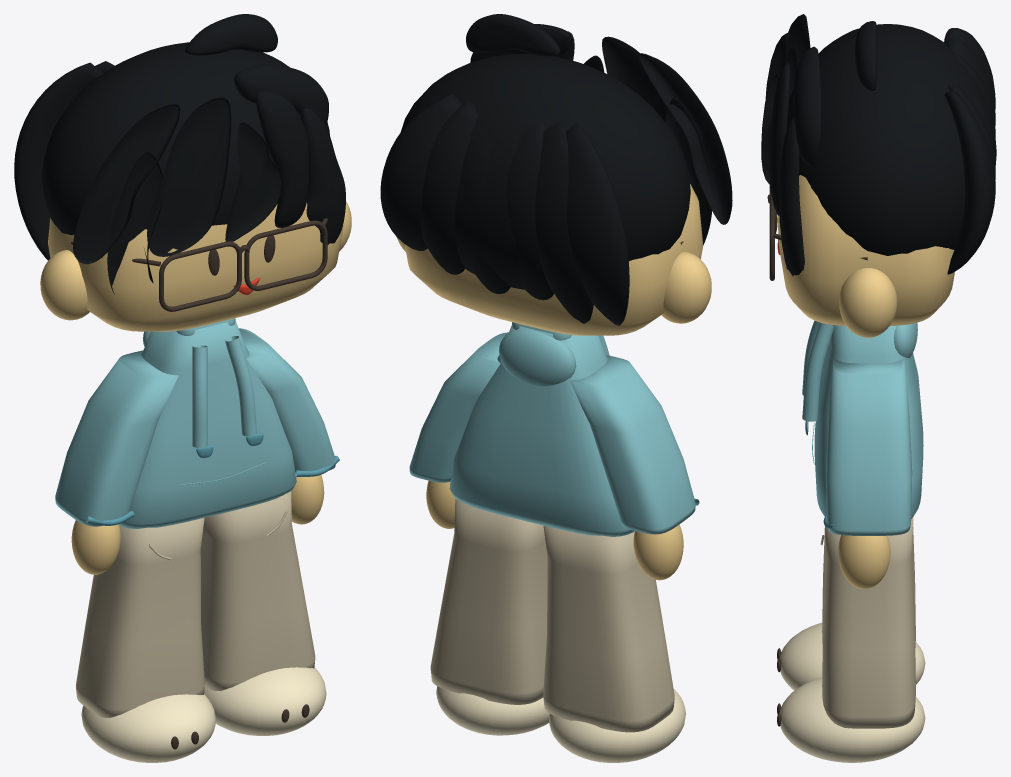
Rendered from clay-portrait.glb.
3 renders of one model, left to right at view 1: azimuth 30°, elevation 25°; view 2: azimuth 150°, elevation 25°; view 3: azimuth 270°, elevation 25°, orthographic.
Parts seen in each view (by area): view 1: Hand shaped blue sweatshirt, Wide cloth trouser leg, Black hair under shell, Wide cloth trouser leg.001, Soft oval face, Long sloped sleeve, Left broad fringe, Rounded ivory shoe, Left outer swept slab, Rounded ivory shoe.001, Back overlapping slab 00, Long sloped sleeve.001 (+13 smaller); view 2: Black hair under shell, Wide cloth trouser leg, Hand shaped blue sweatshirt, Wide cloth trouser leg.001, Long sloped sleeve, Soft oval face, Back overlapping slab 00, Back overlapping slab 01, Back overlapping slab 05, Long sloped sleeve.001, Back overlapping slab 04, Left outer swept slab (+12 smaller); view 3: Black hair under shell, Wide cloth trouser leg.001, Long sloped sleeve.001, Soft oval face, Rounded ivory shoe.001, Hand shaped blue sweatshirt, Back overlapping slab 05, Large low ear.001, Right temple slab, Upper right sweep, Rounded ivory shoe, Small mitten hand.001 (+13 smaller).
Part boxes in pixels (x1,y1,x2,y2): Hand shaped blue sweatshirt: [118, 321, 296, 528]; Wide cloth trouser leg: [76, 518, 204, 717]; Black hair under shell: [41, 42, 329, 235]; Wide cloth trouser leg.001: [200, 491, 315, 690]; Soft oval face: [48, 202, 343, 331]; Long sloped sleeve: [55, 350, 178, 526]; Left broad fringe: [147, 97, 231, 256]; Rounded ivory shoe: [81, 694, 215, 762]; Left outer swept slab: [73, 104, 180, 264]; Rounded ivory shoe.001: [204, 667, 326, 735]; Back overlapping slab 00: [14, 62, 102, 260]; Long sloped sleeve.001: [239, 328, 335, 470]; Black hair under shell: [401, 54, 690, 289]; Wide cloth trouser leg: [543, 525, 674, 732]; Hand shaped blue sweatshirt: [449, 325, 634, 536]; Wide cloth trouser leg.001: [430, 498, 547, 704]; Long sloped sleeve: [570, 355, 695, 534]; Soft oval face: [404, 184, 703, 335]; Back overlapping slab 00: [565, 122, 629, 325]; Back overlapping slab 01: [535, 121, 593, 323]; Back overlapping slab 05: [380, 94, 461, 250]; Long sloped sleeve.001: [409, 332, 508, 482]; Back overlapping slab 04: [420, 101, 478, 274]; Left outer swept slab: [639, 53, 732, 224]; Black hair under shell: [786, 24, 996, 255]; Wide cloth trouser leg.001: [822, 516, 915, 728]; Long sloped sleeve.001: [826, 358, 912, 535]; Soft oval face: [778, 175, 954, 325]; Rounded ivory shoe.001: [779, 677, 925, 762]; Hand shaped blue sweatshirt: [814, 325, 923, 518]; Back overlapping slab 05: [944, 91, 995, 274]; Large low ear.001: [839, 268, 897, 337]; Right temple slab: [779, 118, 804, 275]; Upper right sweep: [793, 46, 821, 166]; Rounded ivory shoe: [780, 622, 925, 690]; Small mitten hand.001: [838, 535, 890, 589].
Bounding box in the file's own units: 1.9 × 4.21 × 1.25.
